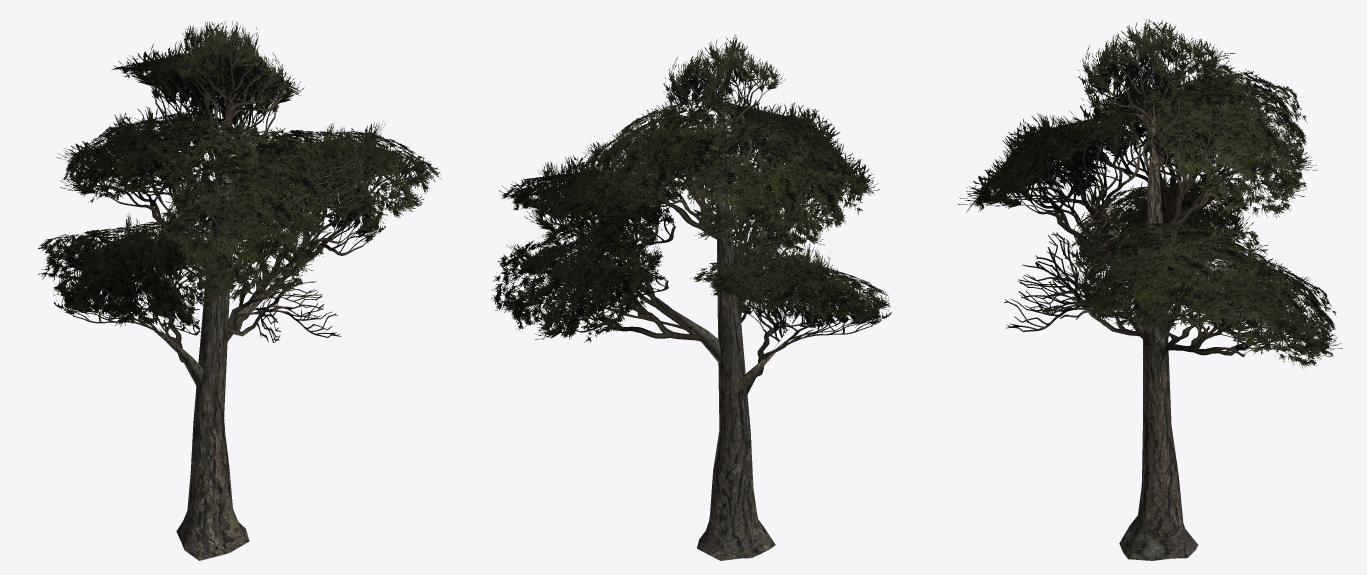
The model's file is Con_02_c_N.fbx.
The picture shows the model from 3 angles, left to right: view 1: azimuth 30°, elevation 25°; view 2: azimuth 150°, elevation 25°; view 3: azimuth 270°, elevation 25°; orthographic projection. The views are drawn at different scales.
Parts seen in each view (by area): view 1: Con_02_c, Con_02_Trunk_c; view 2: Con_02_c, Con_02_Trunk_c; view 3: Con_02_c, Con_02_Trunk_c.
Part boxes in pixels (x1,y1,x2,y2): Con_02_c: (38,20,441,365); Con_02_Trunk_c: (158,97,281,560); Con_02_c: (491,34,891,377); Con_02_Trunk_c: (657,119,785,560); Con_02_c: (958,19,1342,368); Con_02_Trunk_c: (1078,101,1197,560).
Size of what is drawn, in the model's own units: 2424 by 3016 by 2073.
2 materials, 2 textured.
